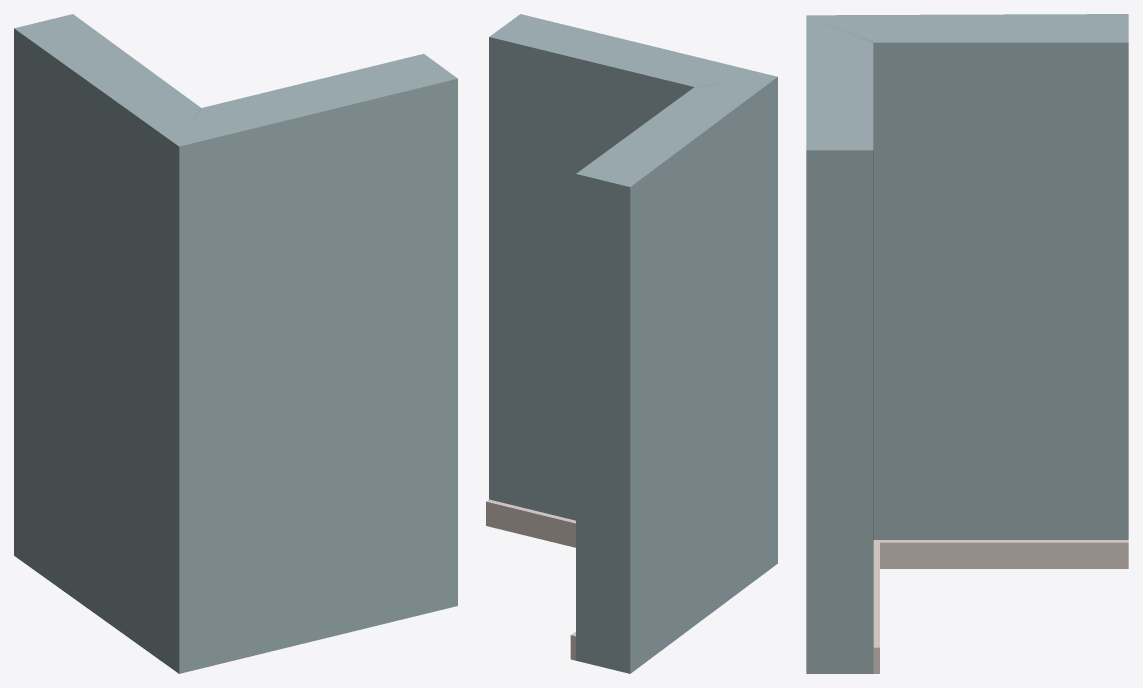
Rendered from WallCorner.fbx.
3 renders of one model, left to right at view 1: azimuth 30°, elevation 25°; view 2: azimuth 150°, elevation 25°; view 3: azimuth 270°, elevation 25°, orthographic. The views are drawn at different scales.
Parts seen in each view (by area): view 1: WallCorner; view 2: WallCorner; view 3: WallCorner.
Part boxes in pixels (bbox=[...]): WallCorner: bbox=[14, 14, 457, 673]; WallCorner: bbox=[486, 14, 777, 673]; WallCorner: bbox=[806, 14, 1128, 673].
Bounding box in the file's own units: 1.12 × 1.12 × 2.
